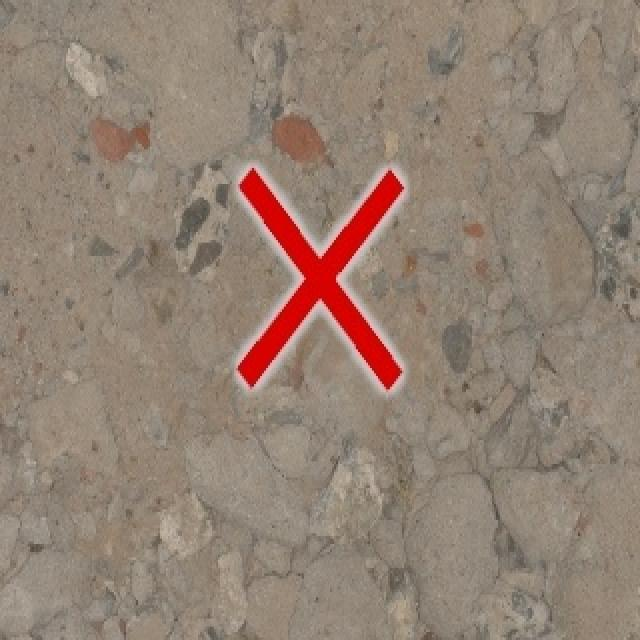x_marker: (237, 167, 403, 388)
